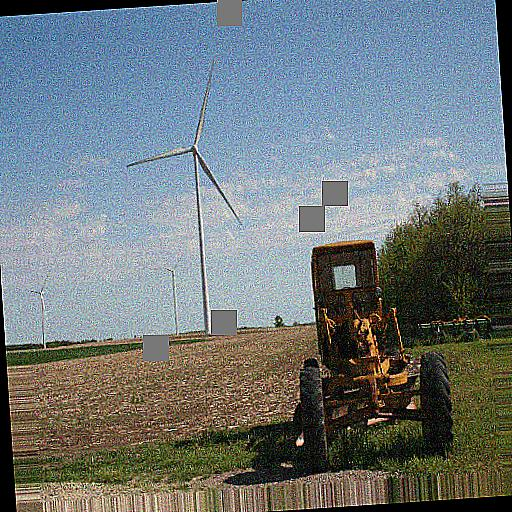wind turbine: (127, 60, 241, 337), (23, 268, 54, 351), (153, 253, 185, 333)
